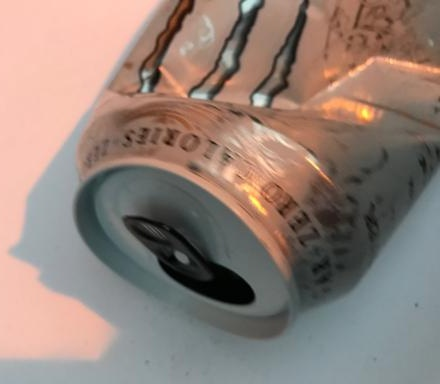Metal: (61, 7, 417, 348)
